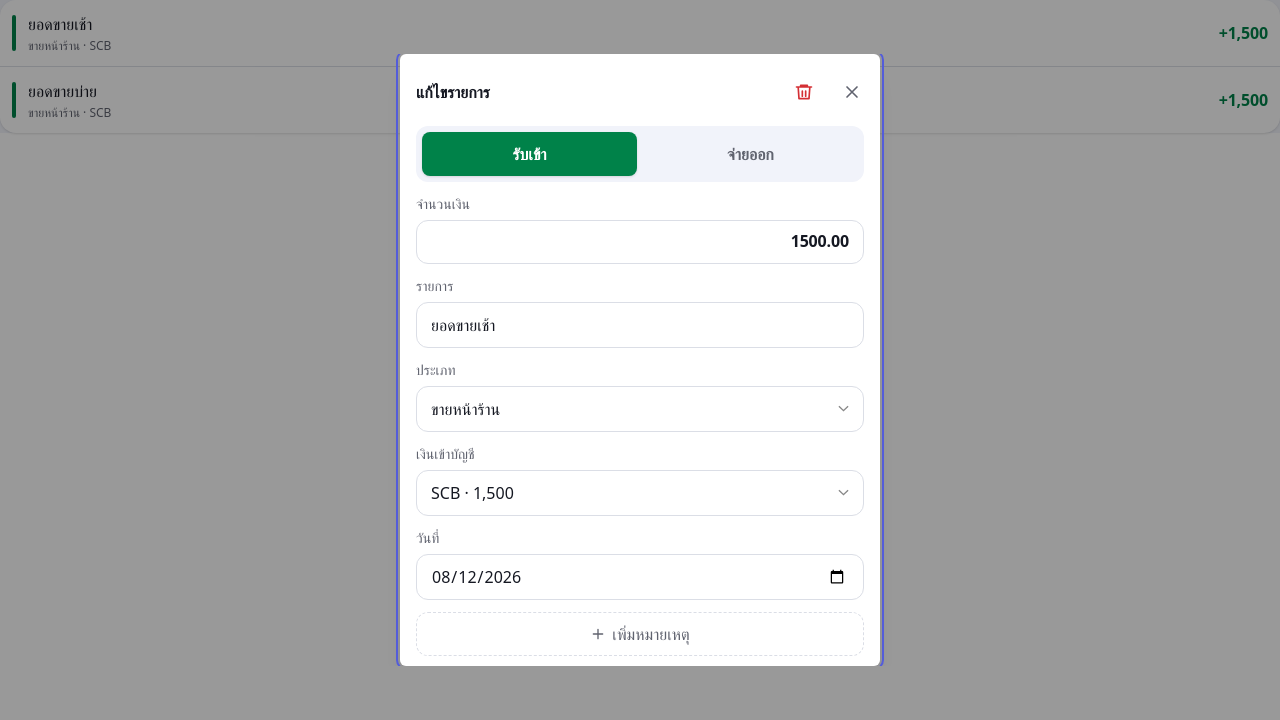
เปิดรายการที่ระบุมาจาก URL › กดปิดแล้วต้องปิดลง ไม่เด้งกลับมาเปิดใหม่
expect the field labelled "จำนวนเงิน" is shown: met, box [416,220,864,264]
Click the button named "ปิด".
click(852, 92)  # box [830,70,874,114]
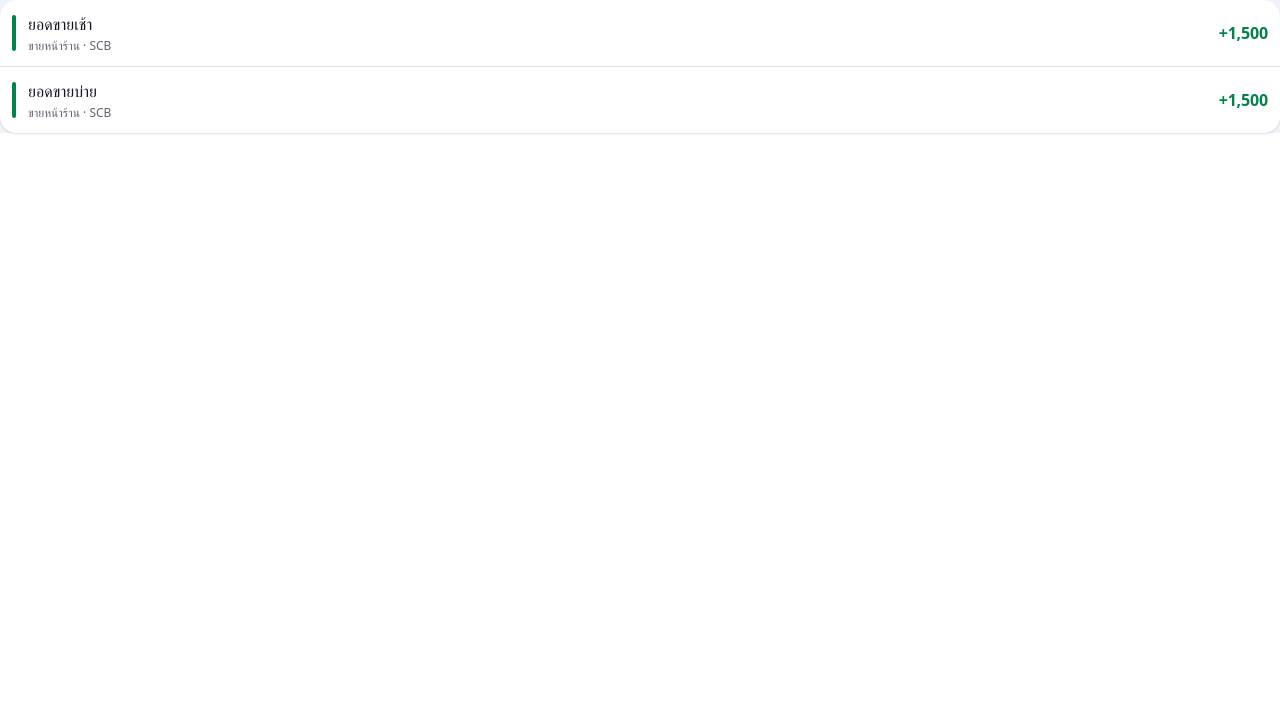
expect the label labelled "จำนวนเงิน" is gone: met
